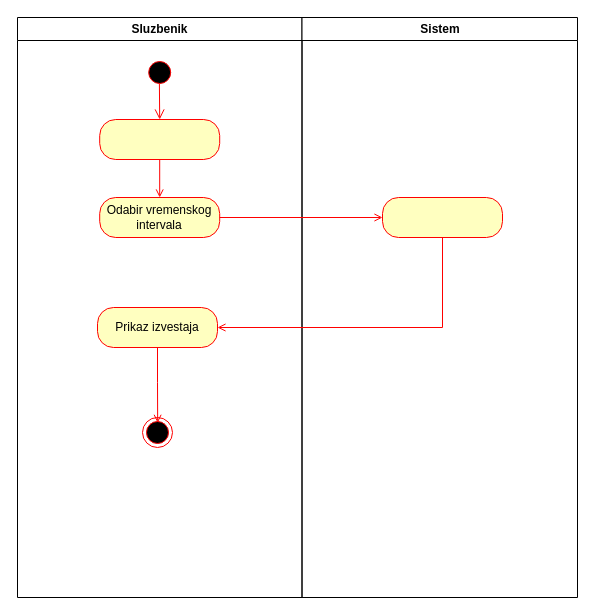
The diagram is 595 pixels wide and 615 high, and some of its shapes have lost their labels. Here are the shapes that lost their labels. From the top down, the box of each, then its label:
(99, 118, 220, 160): Prijava na sistem
(382, 196, 502, 238): Generisanje izvestaja u pdf-u
